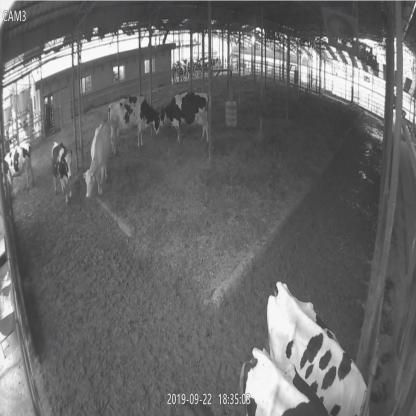cow: (266, 280, 369, 416), (238, 346, 329, 416), (107, 95, 160, 155), (161, 92, 209, 143), (83, 121, 111, 199), (2, 143, 35, 190), (52, 142, 73, 204)
